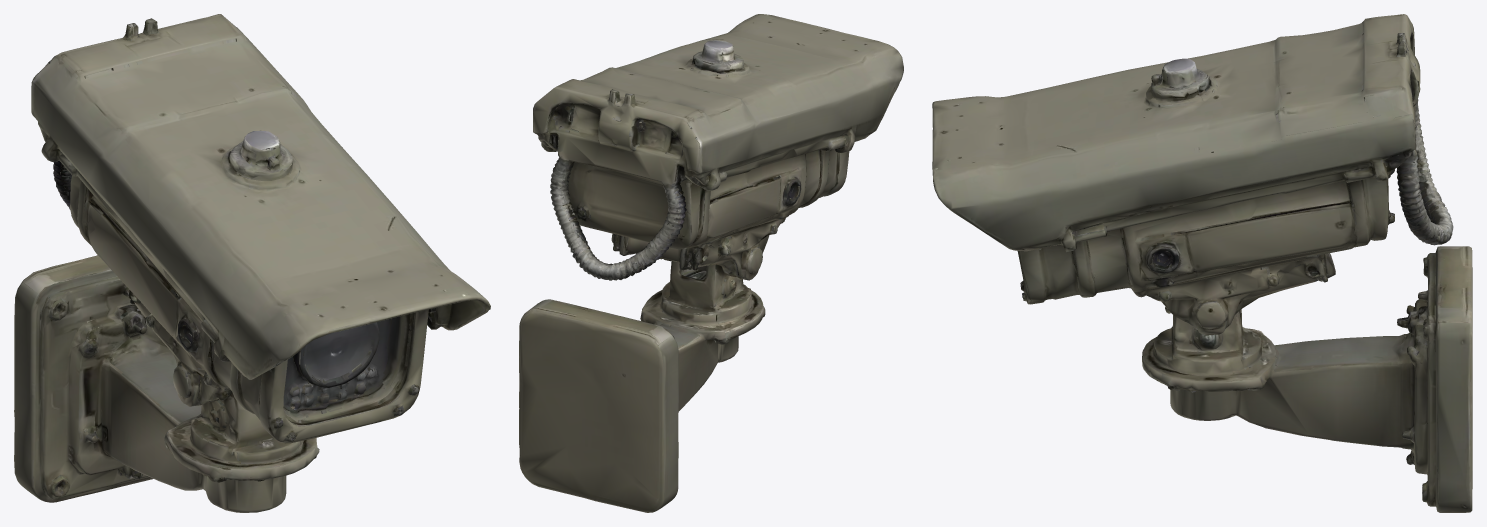
File: scifi_cam.glb
3 views of the same model, side by side, from view 1: azimuth 30°, elevation 25°; view 2: azimuth 150°, elevation 25°; view 3: azimuth 270°, elevation 25° (orthographic). The views are drawn at different scales.
Visible parts, largest first — view 1: Object_4; view 2: Object_4; view 3: Object_4.
Part boxes in pixels (x1,y1,x2,y2): Object_4: [14, 14, 490, 512]; Object_4: [519, 14, 903, 512]; Object_4: [932, 14, 1472, 512].
Bounding box in the file's own units: 0.8219 × 1.73 × 1.91.
1 material, 1 textured.
